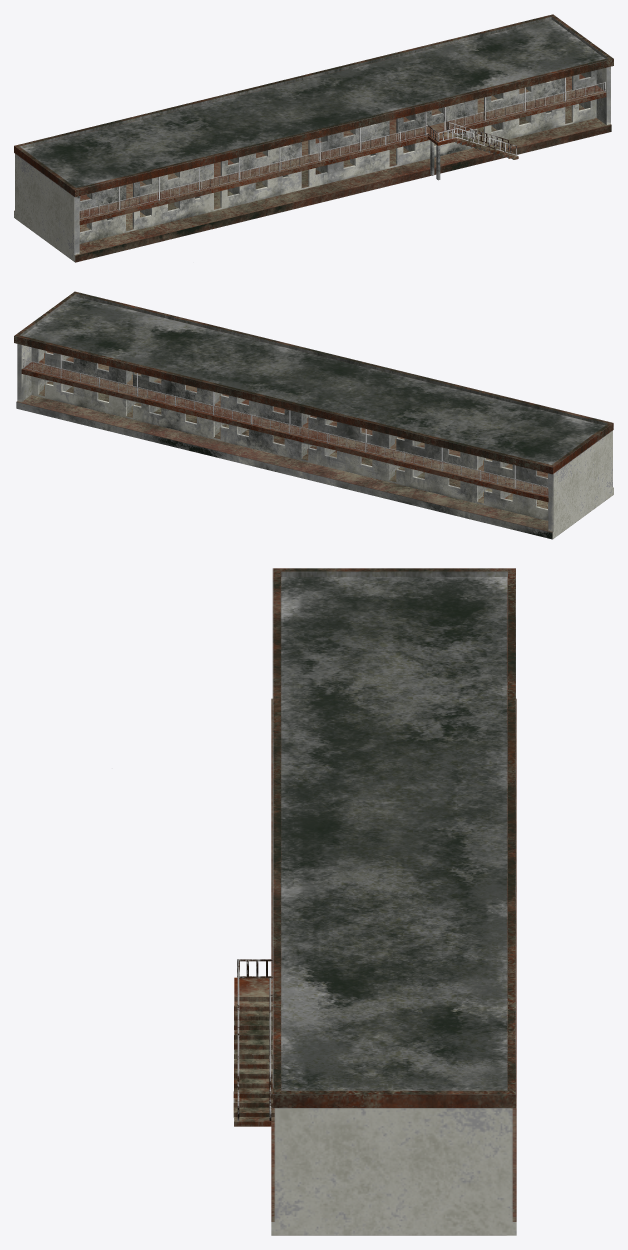
Rendered from DepartamentotoUnity.fbx.
3 views of the same model, one above another, from view 1: azimuth 30°, elevation 25°; view 2: azimuth 150°, elevation 25°; view 3: azimuth 270°, elevation 25° (orthographic). The views are drawn at different scales.
Parts seen in each view (by area): view 1: techodep2-SINuvs, piso0dep-SINuvs, techodepa1-SINuvs, piso0depPRUEBASDOSSS, barandadefrente, Motel.001, Cube.011; view 2: techodep2-SINuvs, piso0dep-SINuvs, techodepa1-SINuvs, piso0depPRUEBASDOSSS, Object_85.001; view 3: techodep2-SINuvs, piso0dep-SINuvs, Cube.011, Motel.001.
Part boxes in pixels (box(x1,y1,x2,y2)): techodep2-SINuvs: box(14, 14, 613, 197); piso0dep-SINuvs: box(14, 66, 611, 262); techodepa1-SINuvs: box(79, 74, 606, 225); piso0depPRUEBASDOSSS: box(79, 70, 596, 210); barandadefrente: box(79, 77, 605, 218); Motel.001: box(427, 121, 516, 155); Cube.011: box(427, 131, 518, 159); techodep2-SINuvs: box(14, 291, 613, 474); piso0dep-SINuvs: box(16, 344, 613, 539); techodepa1-SINuvs: box(21, 351, 548, 502); piso0depPRUEBASDOSSS: box(31, 347, 548, 487); Object_85.001: box(22, 354, 548, 495); techodep2-SINuvs: box(272, 568, 515, 1108); piso0dep-SINuvs: box(271, 698, 516, 1235); Cube.011: box(233, 977, 274, 1126); Motel.001: box(237, 959, 272, 1120).
Size of the model in its own units: 6261 by 800 by 2038.
